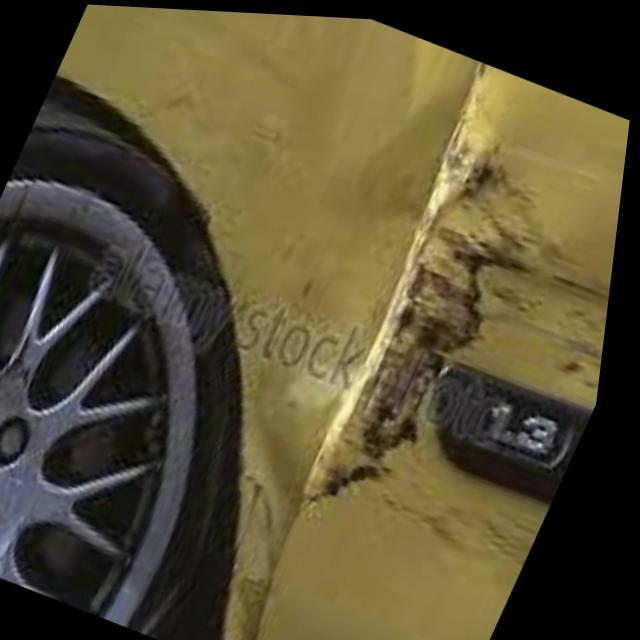rub: (133, 7, 616, 640)
